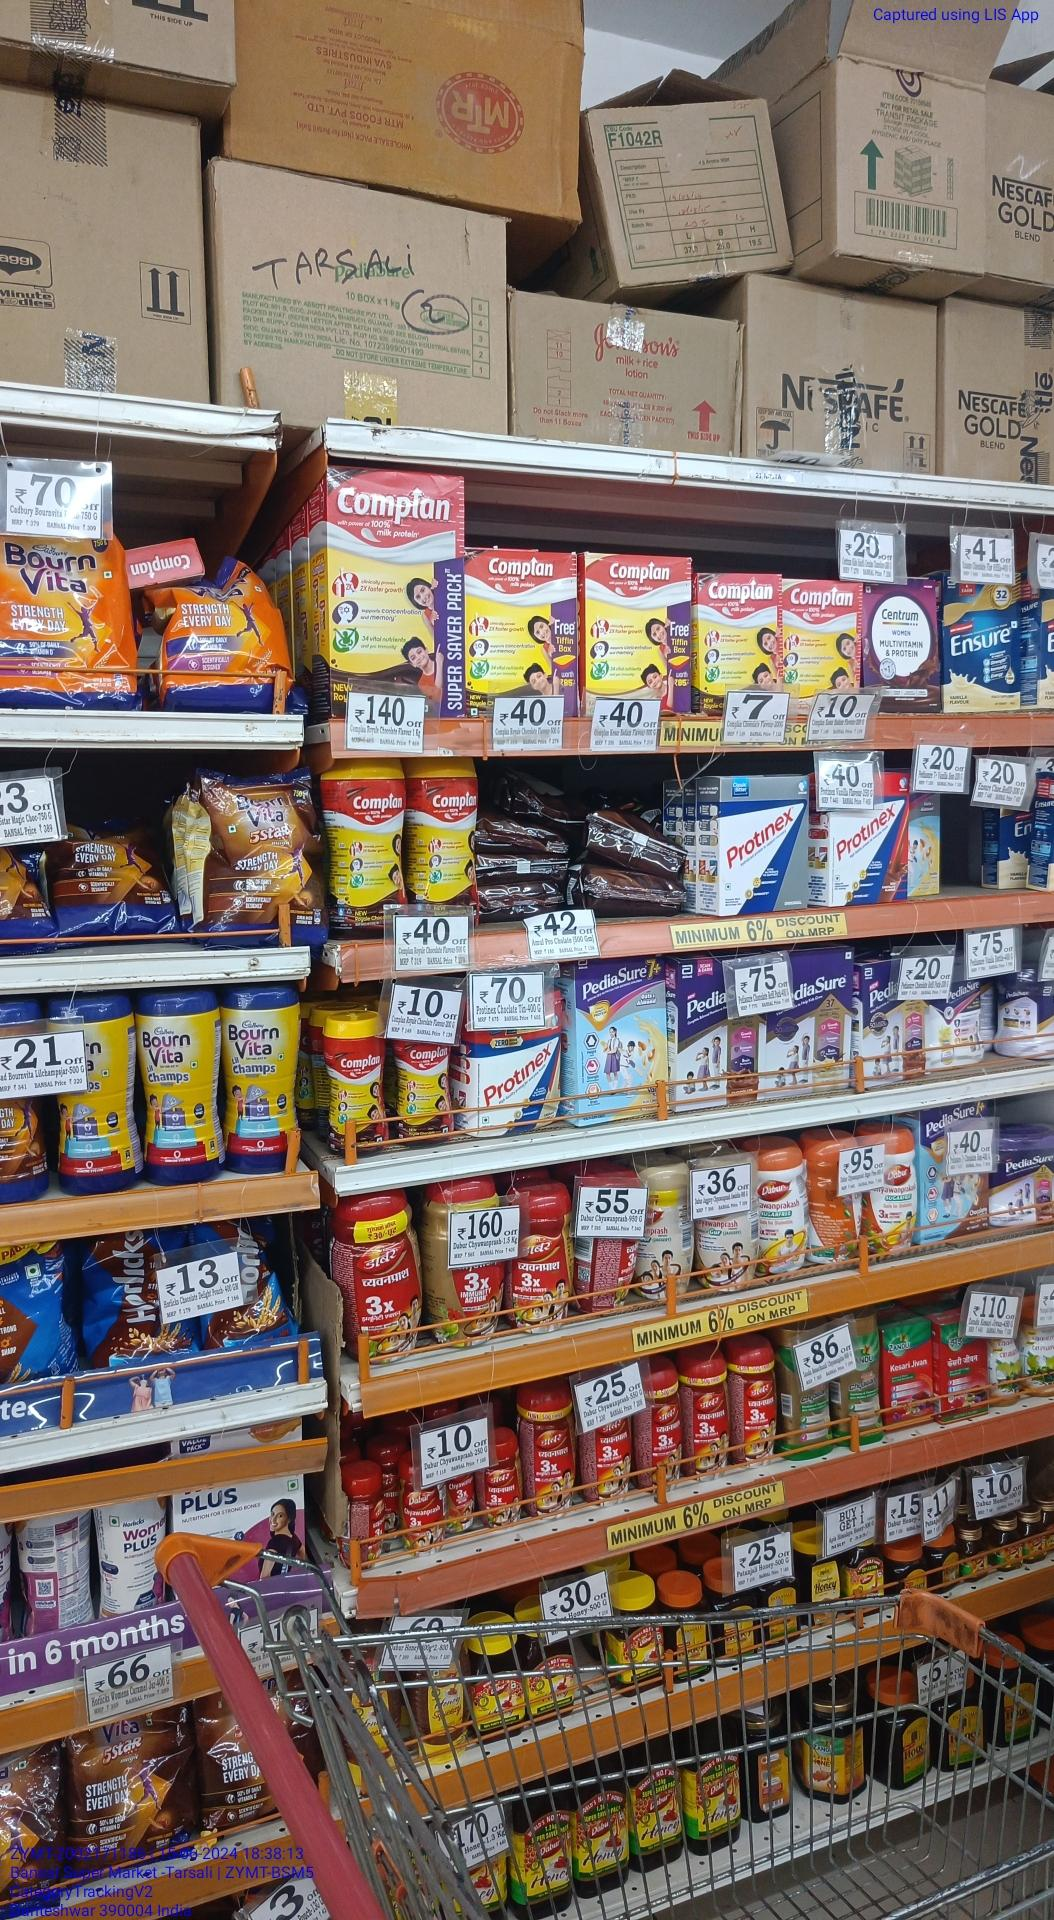BOURN_VITA_CHAMPS_500_G_JAR: (140, 992, 218, 1183), (225, 990, 300, 1173)
COMPLAN_CHOCOLATE_200_GMS_JAR: (322, 1014, 387, 1149), (395, 1040, 454, 1144)
COMPLAN_CHOCOLATE_500_GMS_JAR: (330, 751, 406, 906), (413, 759, 479, 898)
